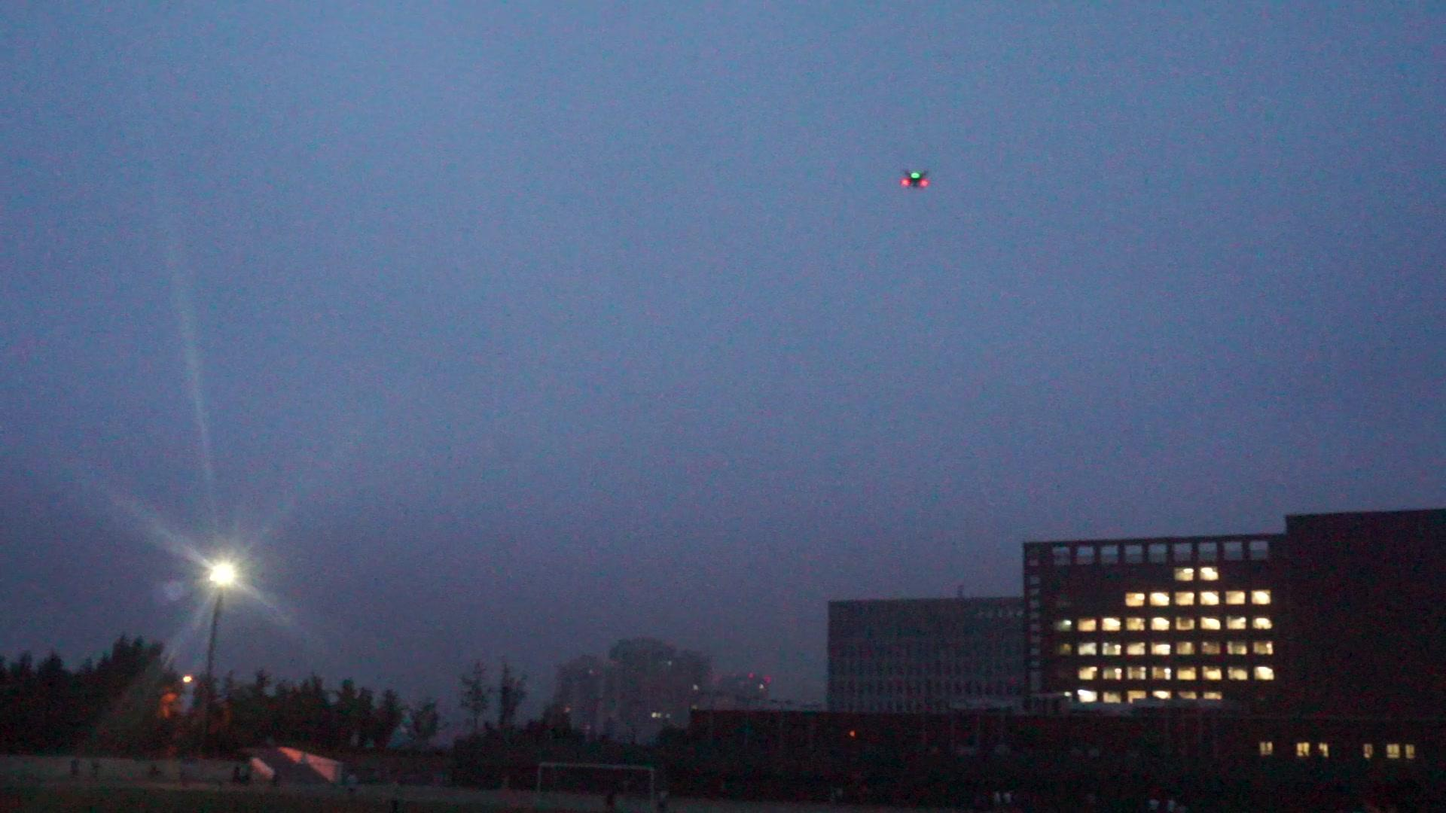UAV: (901, 169, 931, 189)
